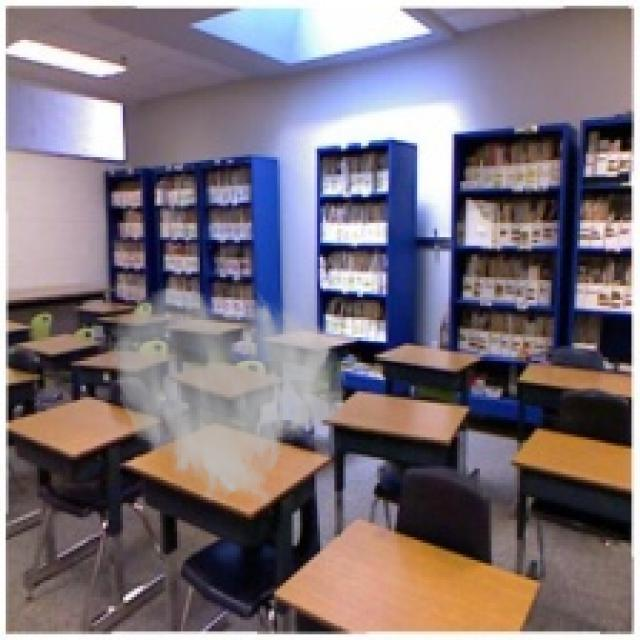Smoke: (105, 283, 348, 508)
